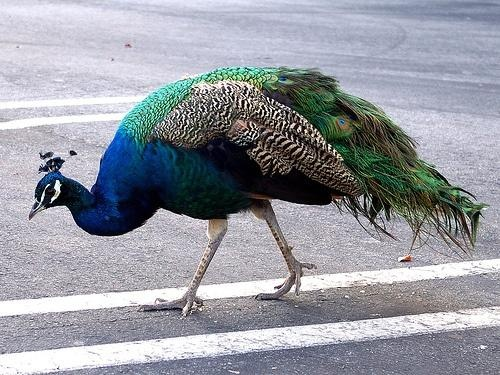bird: (26, 66, 486, 319)
